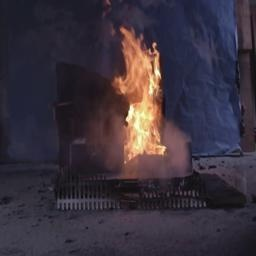fire: (117, 22, 165, 164)
